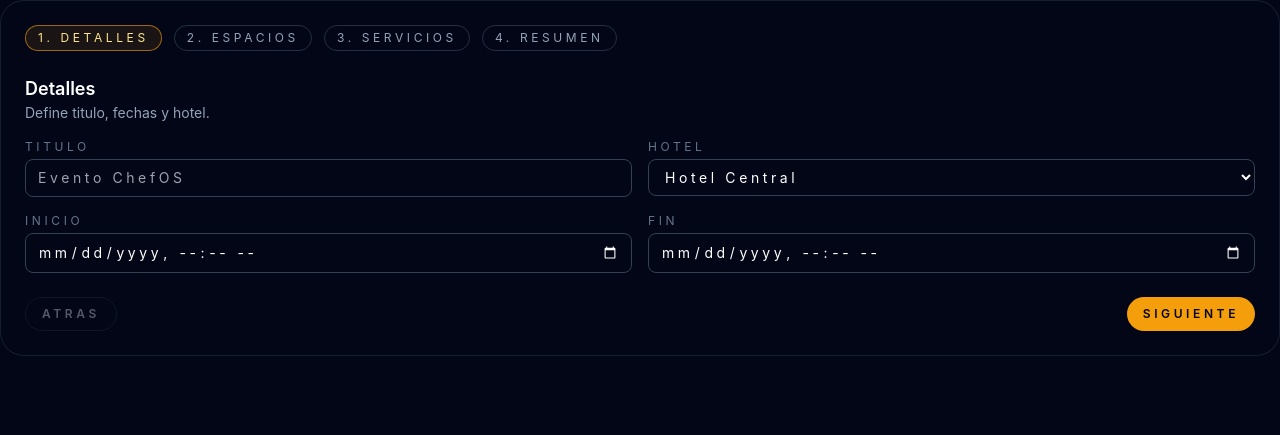
EventWizard › shows validation error when details are missing
The width and height of the screenshot is (1280, 435).
Click the button "Siguiente": (1191, 314) [1127,297,1255,331]
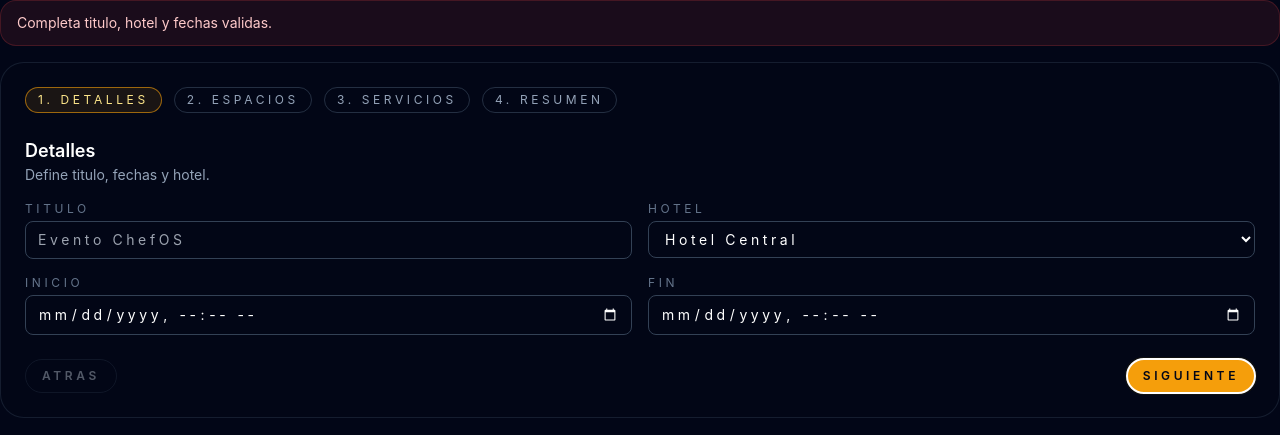
Now the text "Completa titulo, hotel y fechas validas." is shown, box [17,14,272,31]
